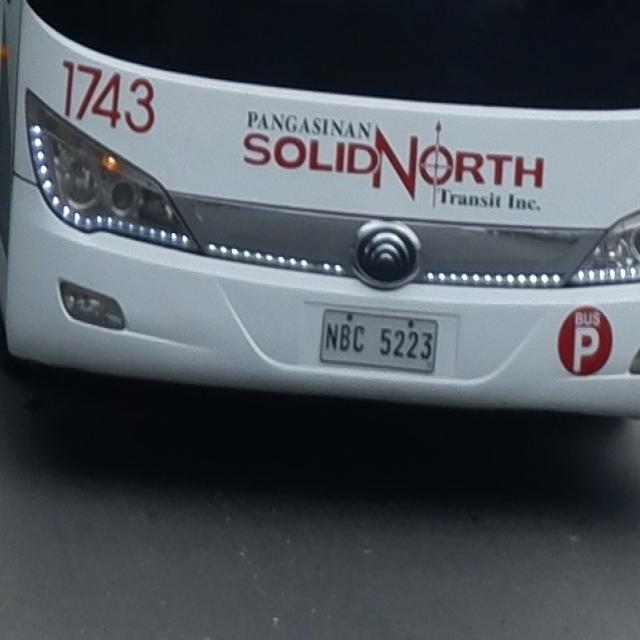LicensePlate: (314, 307, 449, 380)
